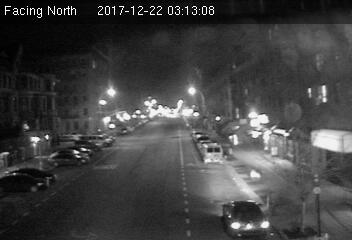car: (221, 196, 274, 239)
truck: (202, 142, 224, 165)
